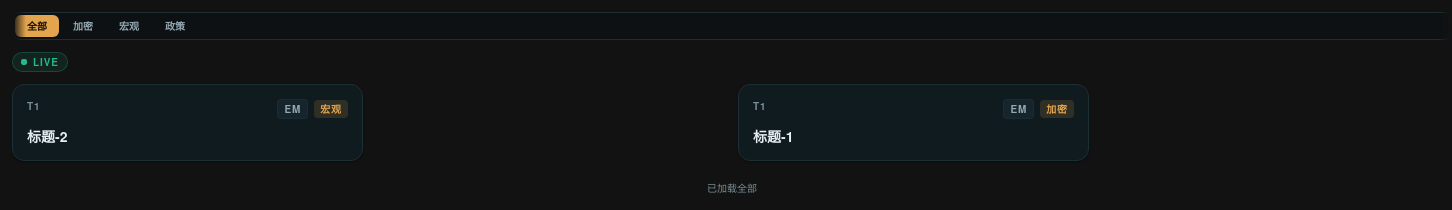
GlobalNewsFeed › filters the feed by the selected category
Expected: the heading "标题-1" is shown, [753, 126, 794, 146]
Expected: the heading "标题-2" is shown, [27, 126, 68, 146]
Click the button "加密" at (83, 26), box [61, 15, 105, 37]
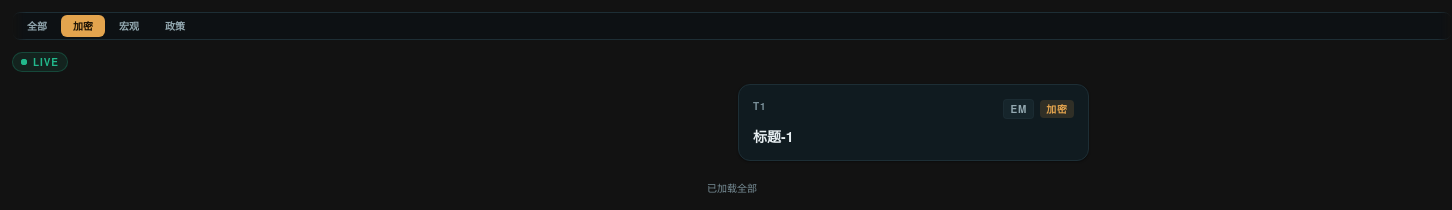
Expected: the heading "标题-1" is shown, [753, 126, 794, 146]
Result: the heading "标题-2" is gone
clicking the active chip clears the filter
Click the button "加密" at (83, 26), box [61, 15, 105, 37]
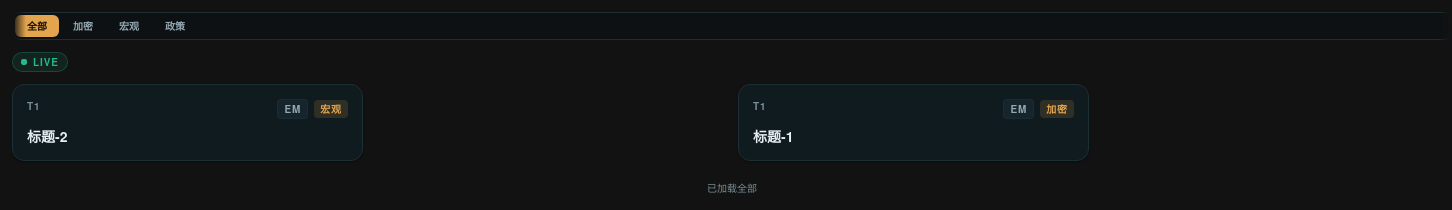
Result: the heading "标题-2" is shown at [27, 126, 68, 146]
